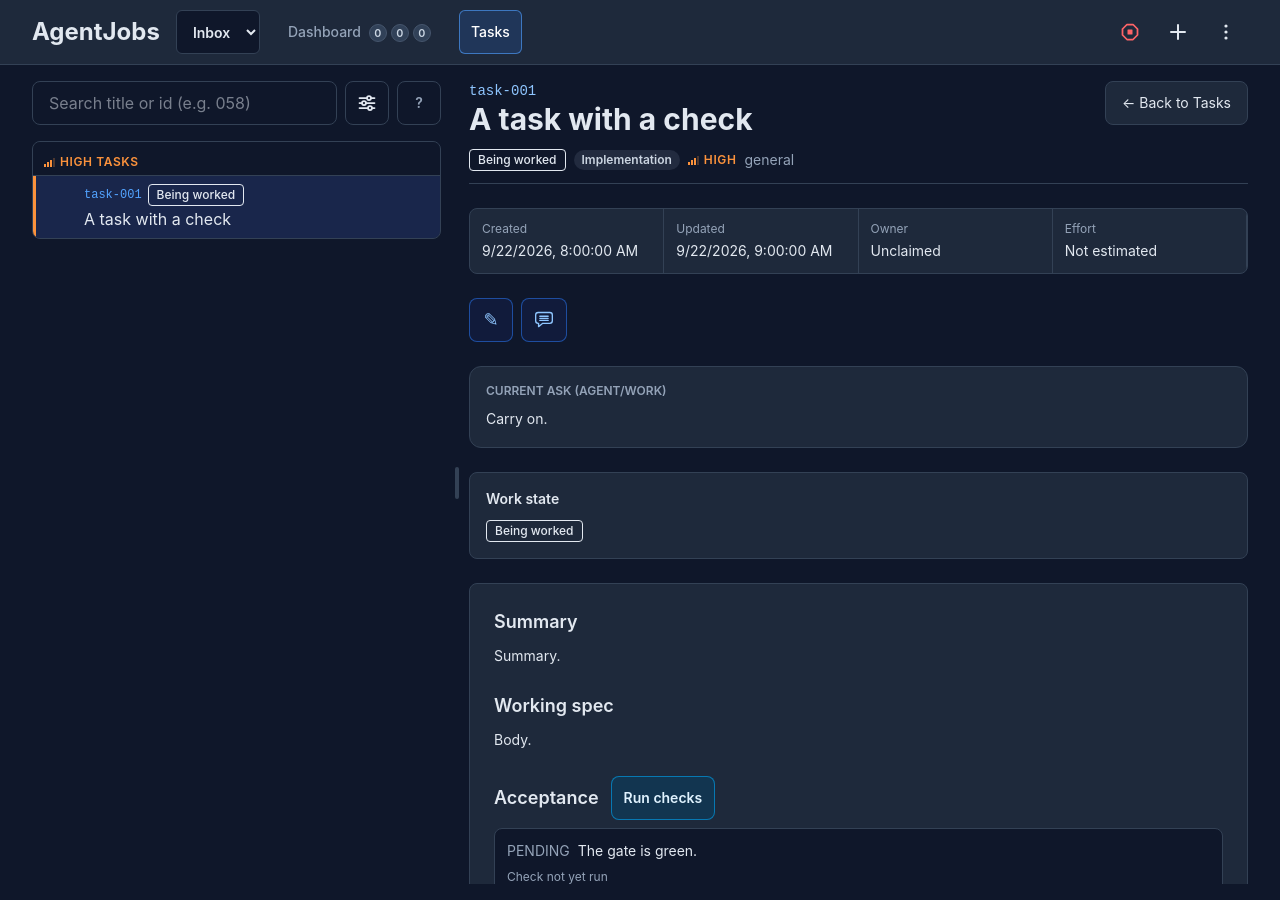
Test case: Run checks on the task page › posts to the check route with no body, and shows the result without a reload
expect the text "Check not yet run" is shown: met, box [507,869,608,884]
Click the button "Run checks" at (663, 798), box [611,776,715,820]
(page scrolled)
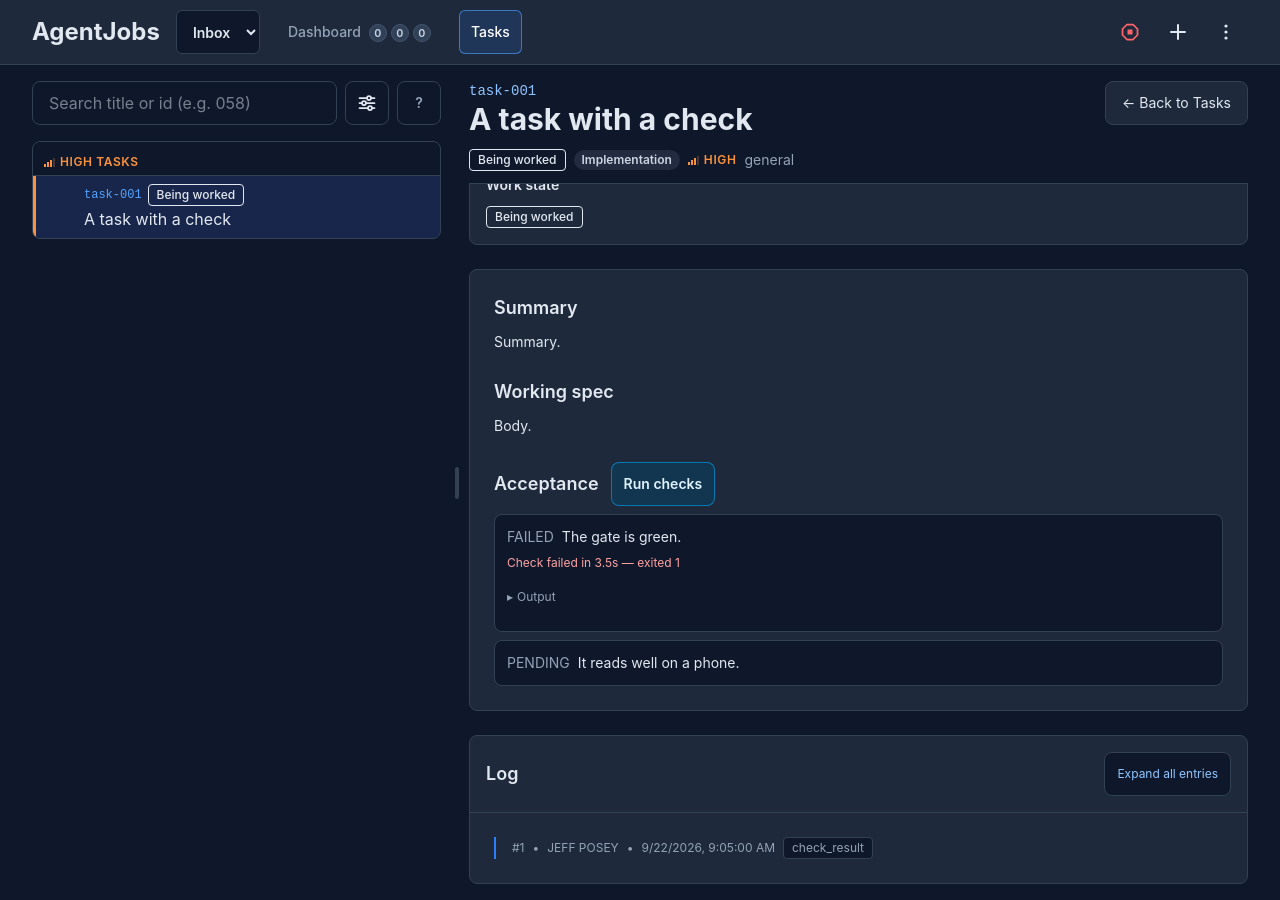
expect the text "Check failed in 3.5s — exited 1" is shown: met, box [507,555,680,570]
# And the failure's output is there to open.
Click the text "Output" at (536, 597), box [517,589,556,605]
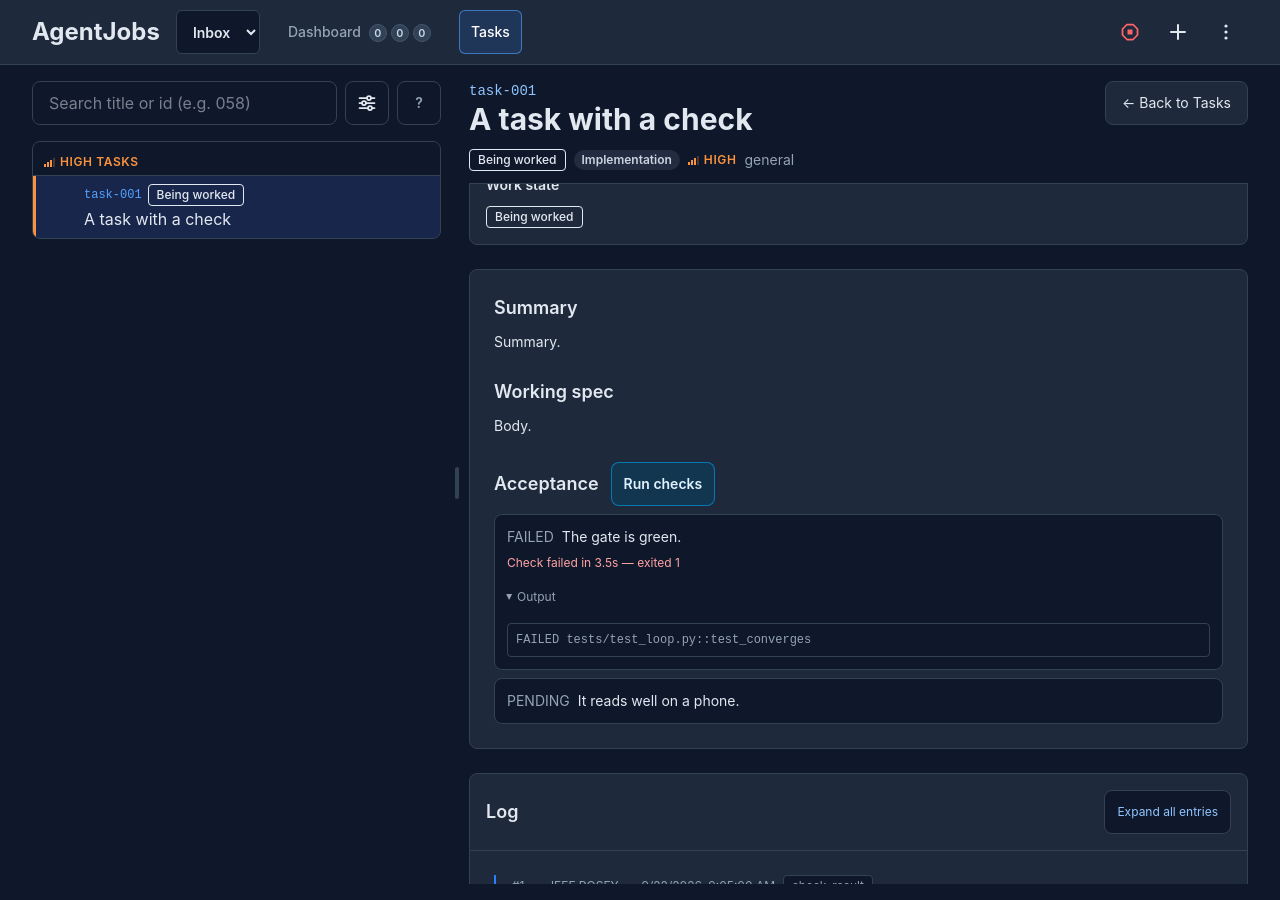
expect the text "FAILED tests/test_loop.py::test_converges" is shown: met, box [507,623,1210,657]
